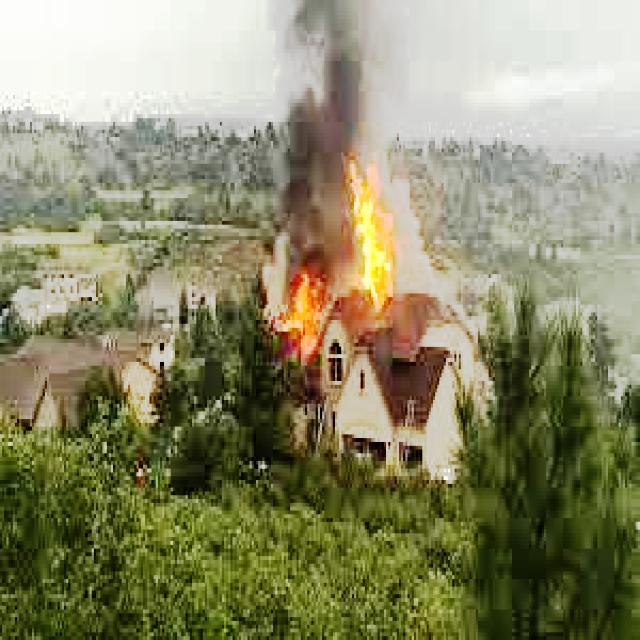api: (340, 150, 415, 321), (257, 256, 332, 363)
